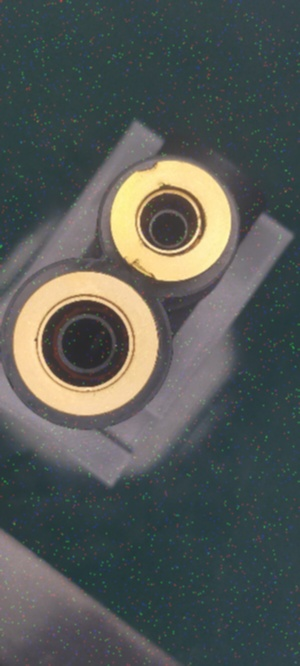bump: (121, 255, 167, 284), (135, 159, 160, 176)
